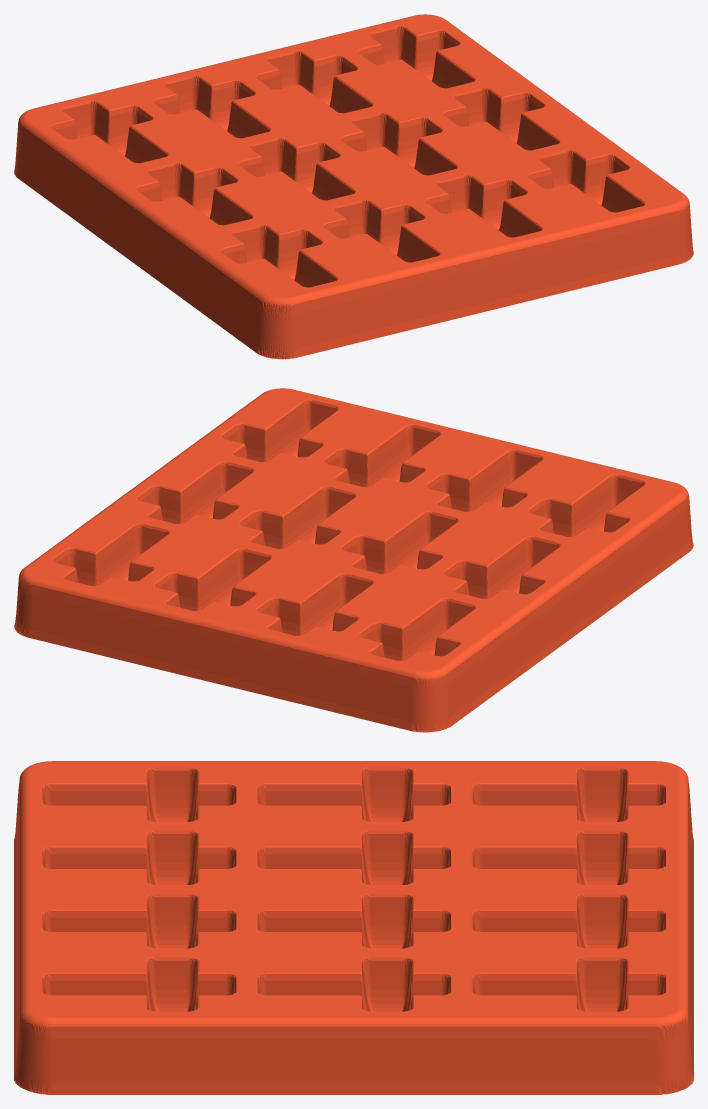
File: mold.glb
3 views of the same model, one above another, from view 1: azimuth 30°, elevation 25°; view 2: azimuth 150°, elevation 25°; view 3: azimuth 270°, elevation 25° (orthographic). The views are drawn at different scales.
Visible parts, largest first — view 1: geometry_0; view 2: geometry_0; view 3: geometry_0.
Boxes of the visible parts, x1=… form: geometry_0: x1=14, y1=14, x2=693, y2=359; geometry_0: x1=14, y1=388, x2=693, y2=732; geometry_0: x1=14, y1=761, x2=693, y2=1094.
Size of the model in its own units: 0.149 by 0.0185 by 0.1598.
